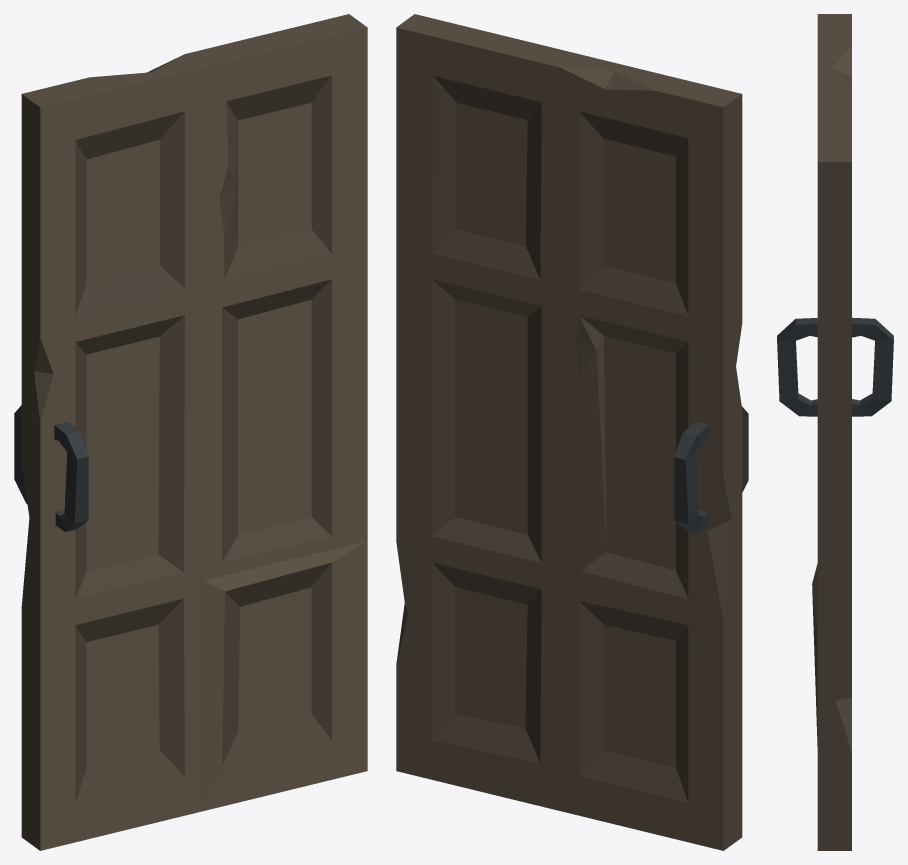
The model's file is SM_Bld_Shop_Door_03_R.fbx.
3 views of the same model, side by side, from view 1: azimuth 30°, elevation 25°; view 2: azimuth 150°, elevation 25°; view 3: azimuth 270°, elevation 25° (orthographic). The views are drawn at different scales.
Visible parts, largest first — view 1: SM_Bld_Shop_Door_03_R; view 2: SM_Bld_Shop_Door_03_R; view 3: SM_Bld_Shop_Door_03_R.
Part boxes in pixels (left/top/right/bottom): SM_Bld_Shop_Door_03_R: left=14, top=14, right=367, bottom=850; SM_Bld_Shop_Door_03_R: left=396, top=14, right=748, bottom=850; SM_Bld_Shop_Door_03_R: left=777, top=14, right=893, bottom=850.
Bounding box in the file's own units: 103 × 222 × 34.19.
